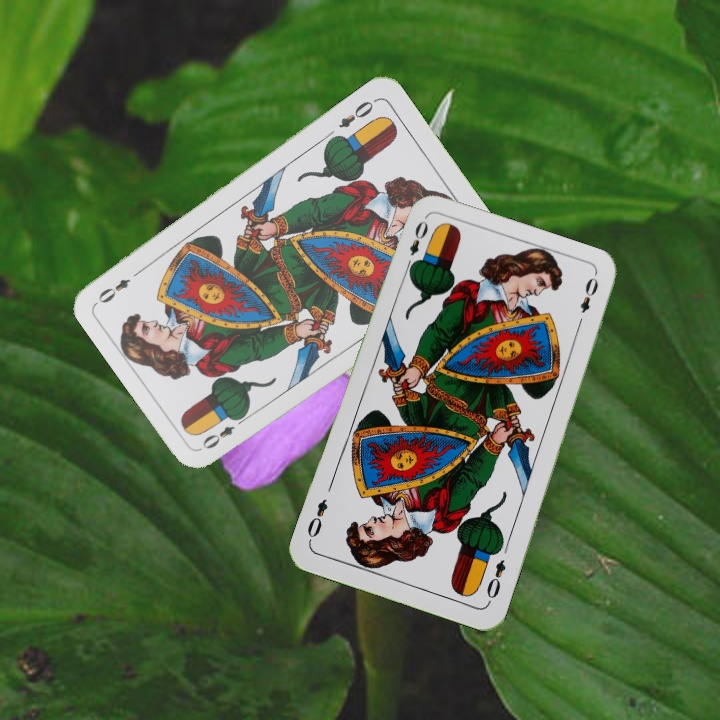EO: (198, 411, 250, 452), (401, 216, 431, 273), (334, 94, 380, 131), (482, 555, 509, 606)
